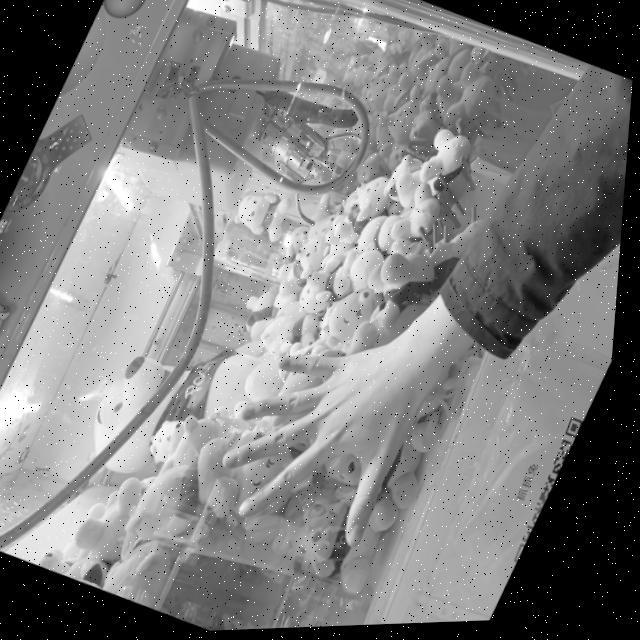no-gloves: (202, 306, 450, 566)
